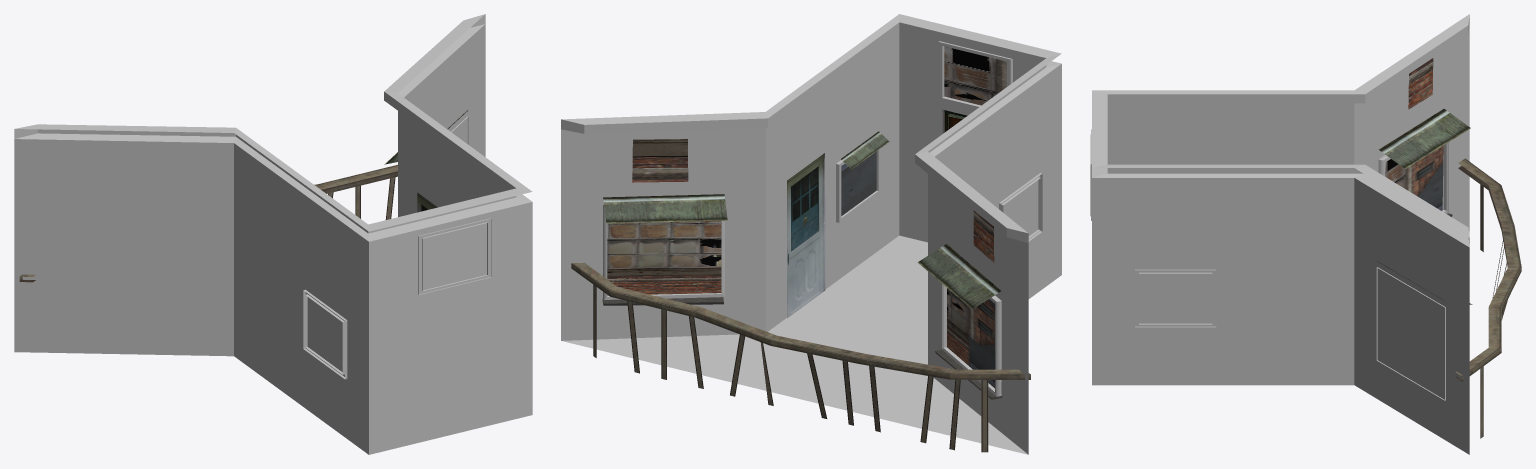
Rendered from Store_front_17_B.fbx.
3 renders of one model, left to right at view 1: azimuth 30°, elevation 25°; view 2: azimuth 150°, elevation 25°; view 3: azimuth 270°, elevation 25°, orthographic. The views are drawn at different scales.
Parts seen in each view (by area): view 1: Store_front_17_B; view 2: Store_front_17_B; view 3: Store_front_17_B.
Boxes of the visible parts, box(x1,y1,x2,y2) form: Store_front_17_B: box(14, 14, 532, 454); Store_front_17_B: box(561, 14, 1061, 454); Store_front_17_B: box(1090, 14, 1521, 454).
Bounding box in the file's own units: 708 × 323 × 576.
